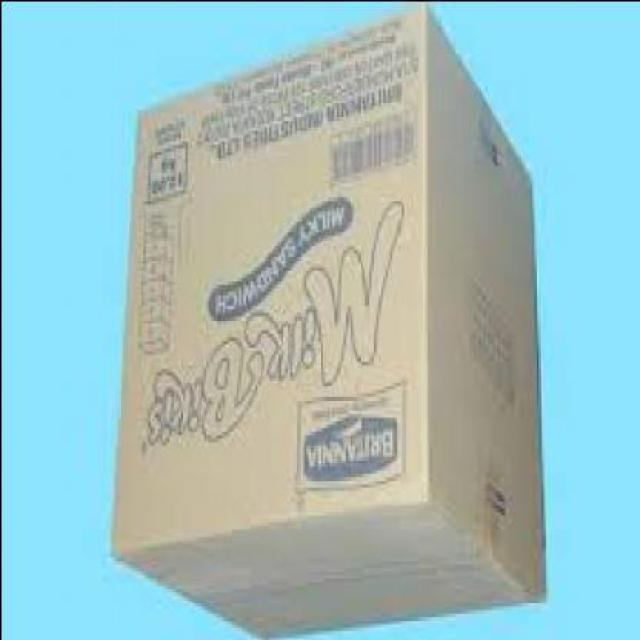CARDBOARD: (110, 3, 548, 639)
